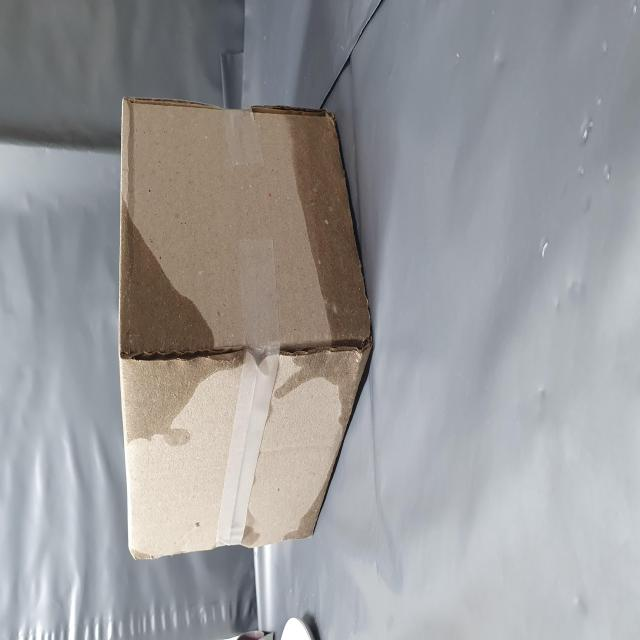wet: (90, 481, 312, 640), (97, 196, 267, 395)
